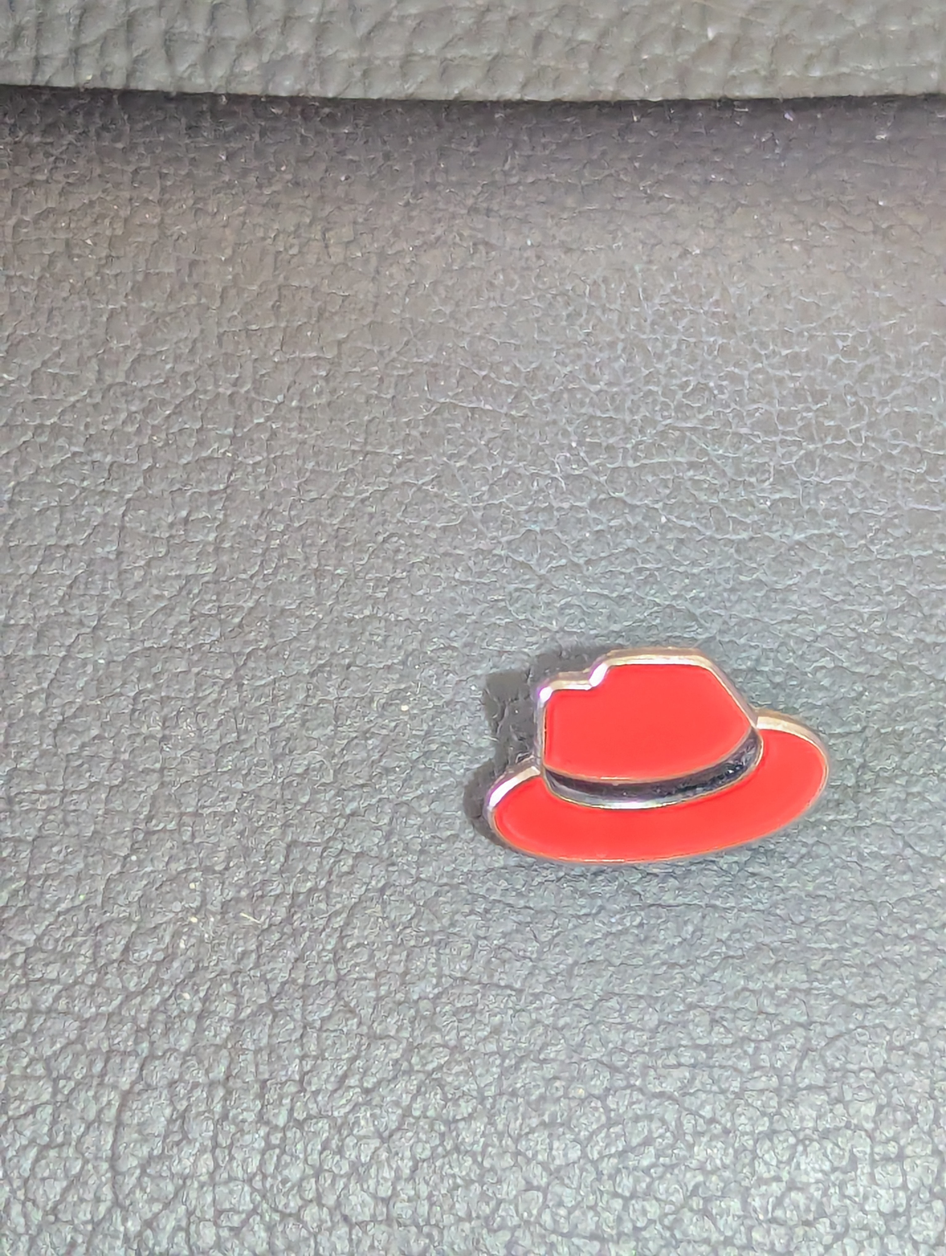Red-Hat: (385, 554, 946, 969)
